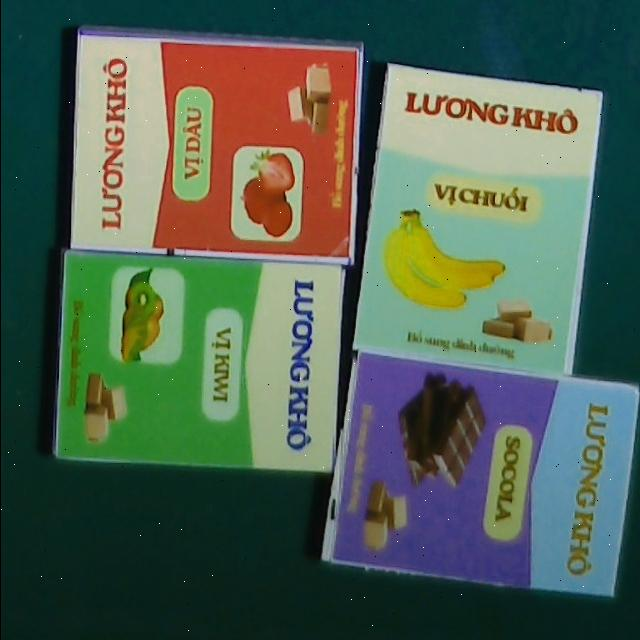chuoi: (349, 62, 602, 378)
dau: (64, 26, 362, 263)
kiwi: (52, 251, 343, 470)
socola: (321, 350, 639, 597)
